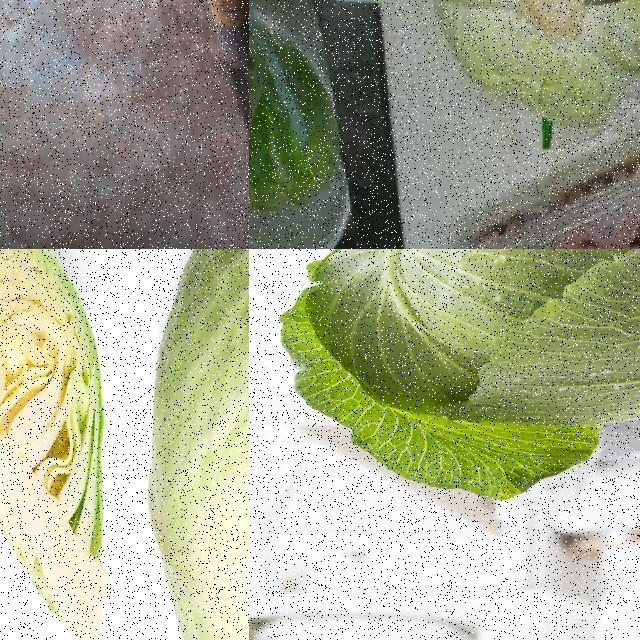cabbage: (268, 249, 639, 507), (0, 249, 118, 639), (146, 249, 248, 639), (418, 0, 639, 148)
